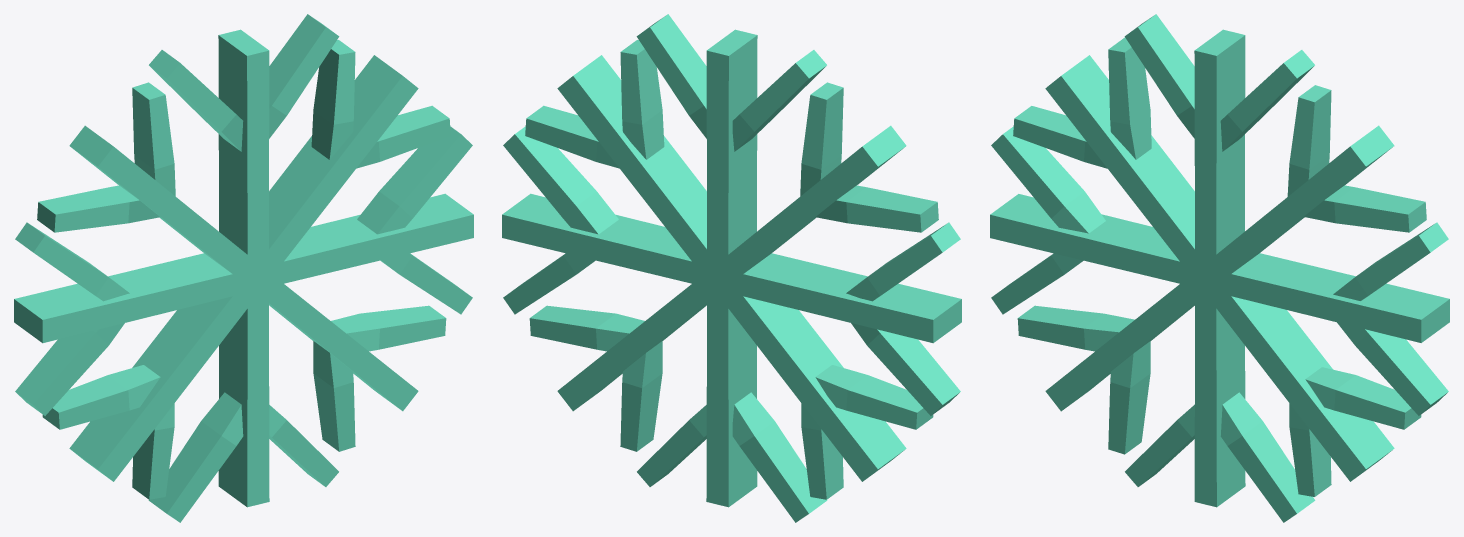
Rendered from Snowflake2.glb.
The picture shows the model from 3 angles, left to right: view 1: azimuth 30°, elevation 25°; view 2: azimuth 150°, elevation 25°; view 3: azimuth 330°, elevation 25°; orthographic projection.
Parts seen in each view (by area): view 1: Snowflake2; view 2: Snowflake2; view 3: Snowflake2.
Part boxes in pixels (x1,y1,x2,y2): Snowflake2: [14, 14, 473, 522]; Snowflake2: [502, 14, 961, 522]; Snowflake2: [990, 14, 1449, 522].
Size of the model in its own units: 0.8948 by 0.8948 by 0.1008.
